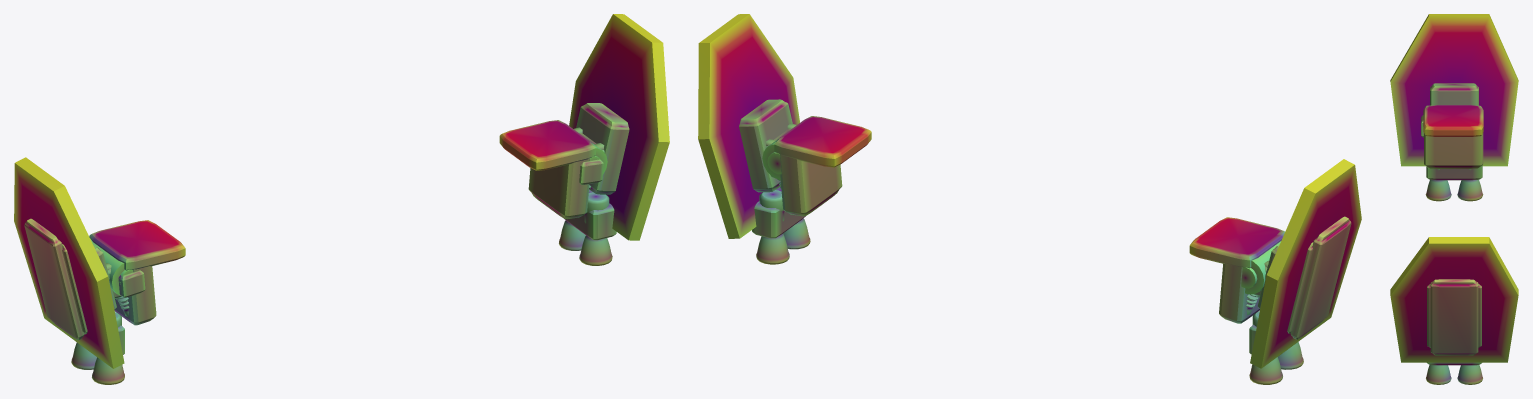
The model's file is llm_gen_shoulder_pods_047_142e5a.glb.
3 renders of one model, left to right at view 1: azimuth 30°, elevation 25°; view 2: azimuth 150°, elevation 25°; view 3: azimuth 270°, elevation 25°, orthographic. The views are drawn at different scales.
Parts seen in each view (by area): view 1: binder_shield_wing_2_adapter_dark_r, binder_shield_wing_2_adapter_dark_l, adapter_shoulder_yoke_r, adapter_shoulder_yoke_l, binder_trim_blue_4_barrel_metal_l, adapter_sub_wing_clevis_dark_1_adapter_dark_r, adapter_sub_exhaust_pod_dark_5_adapter_dark_r, binder_vernier_b_7_vernier_bell_vernier_r, binder_vernier_b_7_vernier_bell_vernier_l, adapter_sh_front_latch_dark_8_adapter_dark_l, binder_vernier_a_6_vernier_bell_vernier_r; view 2: binder_shield_wing_2_adapter_dark_r, binder_shield_wing_2_adapter_dark_l, adapter_shoulder_yoke_r, adapter_shoulder_yoke_l, binder_trim_blue_4_barrel_metal_l, adapter_sub_wing_clevis_dark_1_adapter_dark_r, adapter_sub_exhaust_pod_dark_5_adapter_dark_r, binder_vernier_a_6_vernier_bell_vernier_r, binder_vernier_a_6_vernier_bell_vernier_l, binder_vernier_b_7_vernier_bell_vernier_r; view 3: binder_shield_wing_2_adapter_dark_l, binder_shield_wing_2_adapter_dark_r, adapter_shoulder_yoke_l, binder_trim_blue_4_barrel_metal_r, adapter_sub_wing_clevis_dark_1_adapter_dark_l, adapter_sub_exhaust_pod_dark_5_adapter_dark_l, adapter_sub_trim_clamp_dark_3_adapter_dark_r, binder_vernier_a_6_vernier_bell_vernier_l, binder_vernier_b_7_vernier_bell_vernier_l, binder_vernier_a_6_vernier_bell_vernier_r, binder_vernier_b_7_vernier_bell_vernier_r, adapter_sub_exhaust_pod_dark_5_adapter_dark_r.
Boxes of the visible parts, x1,y1,x2,y2 form: binder_shield_wing_2_adapter_dark_r: (569,14,669,240); binder_shield_wing_2_adapter_dark_l: (14,157,124,368); adapter_shoulder_yoke_r: (499,120,607,219); adapter_shoulder_yoke_l: (89,220,185,325); binder_trim_blue_4_barrel_metal_l: (24,218,84,340); adapter_sub_wing_clevis_dark_1_adapter_dark_r: (576,103,629,194); adapter_sub_exhaust_pod_dark_5_adapter_dark_r: (564,189,616,240); binder_vernier_b_7_vernier_bell_vernier_r: (579,235,612,265); binder_vernier_b_7_vernier_bell_vernier_l: (92,357,124,384); adapter_sh_front_latch_dark_8_adapter_dark_l: (118,270,145,297); binder_vernier_a_6_vernier_bell_vernier_r: (559,220,585,250); binder_shield_wing_2_adapter_dark_r: (698,14,799,238); binder_shield_wing_2_adapter_dark_l: (1250,159,1361,368); adapter_shoulder_yoke_r: (762,116,871,216); adapter_shoulder_yoke_l: (1189,217,1284,323); binder_trim_blue_4_barrel_metal_l: (1290,216,1351,339); adapter_sub_wing_clevis_dark_1_adapter_dark_r: (739,99,792,192); adapter_sub_exhaust_pod_dark_5_adapter_dark_r: (752,187,805,238); binder_vernier_a_6_vernier_bell_vernier_r: (756,234,789,264); binder_vernier_a_6_vernier_bell_vernier_l: (1249,357,1282,384); binder_vernier_b_7_vernier_bell_vernier_r: (783,218,810,249); binder_shield_wing_2_adapter_dark_l: (1390,14,1518,166); binder_shield_wing_2_adapter_dark_r: (1390,237,1518,362); adapter_shoulder_yoke_l: (1423,105,1483,168); binder_trim_blue_4_barrel_metal_r: (1430,279,1478,355); adapter_sub_wing_clevis_dark_1_adapter_dark_l: (1430,83,1478,105); adapter_sub_exhaust_pod_dark_5_adapter_dark_l: (1426,165,1482,180); adapter_sub_trim_clamp_dark_3_adapter_dark_r: (1427,284,1481,347); binder_vernier_a_6_vernier_bell_vernier_l: (1457,179,1483,201); binder_vernier_b_7_vernier_bell_vernier_l: (1425,179,1451,201); binder_vernier_a_6_vernier_bell_vernier_r: (1457,365,1482,384); binder_vernier_b_7_vernier_bell_vernier_r: (1426,365,1451,384); adapter_sub_exhaust_pod_dark_5_adapter_dark_r: (1427,362,1481,365).
Size of the model in its own units: 117 by 38.37 by 27.6.
